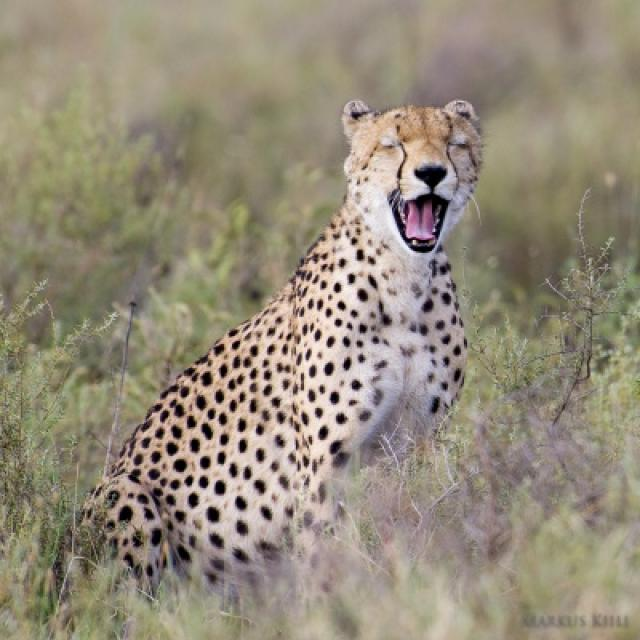Cheetah: (83, 101, 482, 581)
